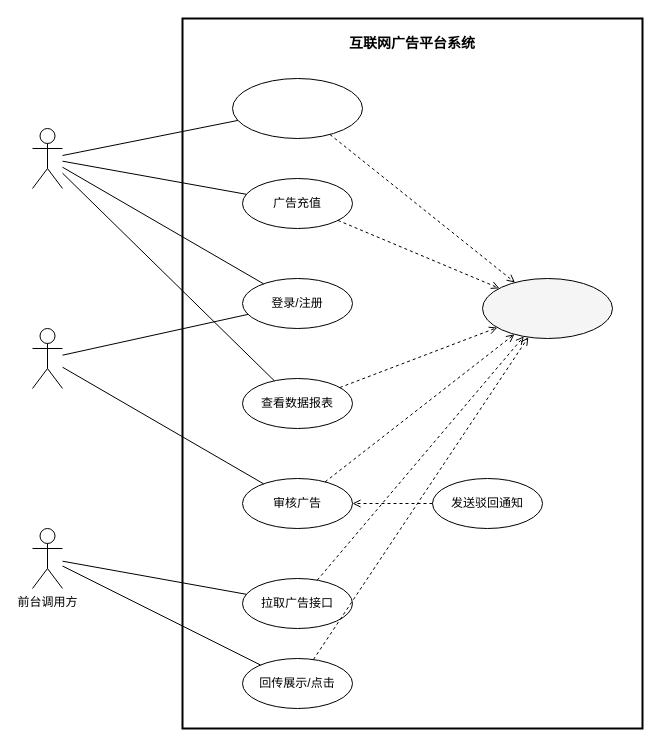
Some shapes in this 660 by 746 pixel diagram are drawn without their labels. The box of each missing label's shape, as (x1, y1, x2, y2) in pixels:
广告客户: (32, 128, 62, 188)
广告管理员: (32, 328, 62, 388)
购买广告 (建计划/传素材): (232, 78, 362, 138)
身份验证 (登录/API鉴权): (482, 278, 612, 338)
